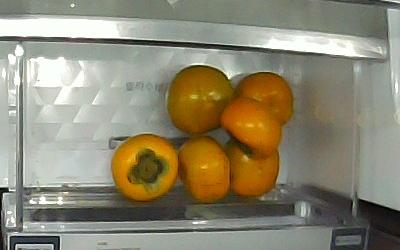persimmon: (166, 65, 236, 133), (111, 133, 178, 202), (220, 98, 284, 157), (177, 137, 230, 202), (225, 138, 281, 196), (236, 72, 295, 126)
